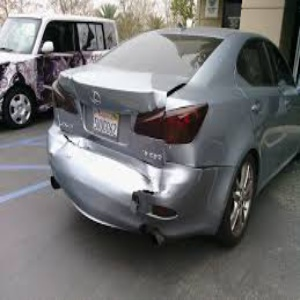bumper: (104, 163, 187, 249)
